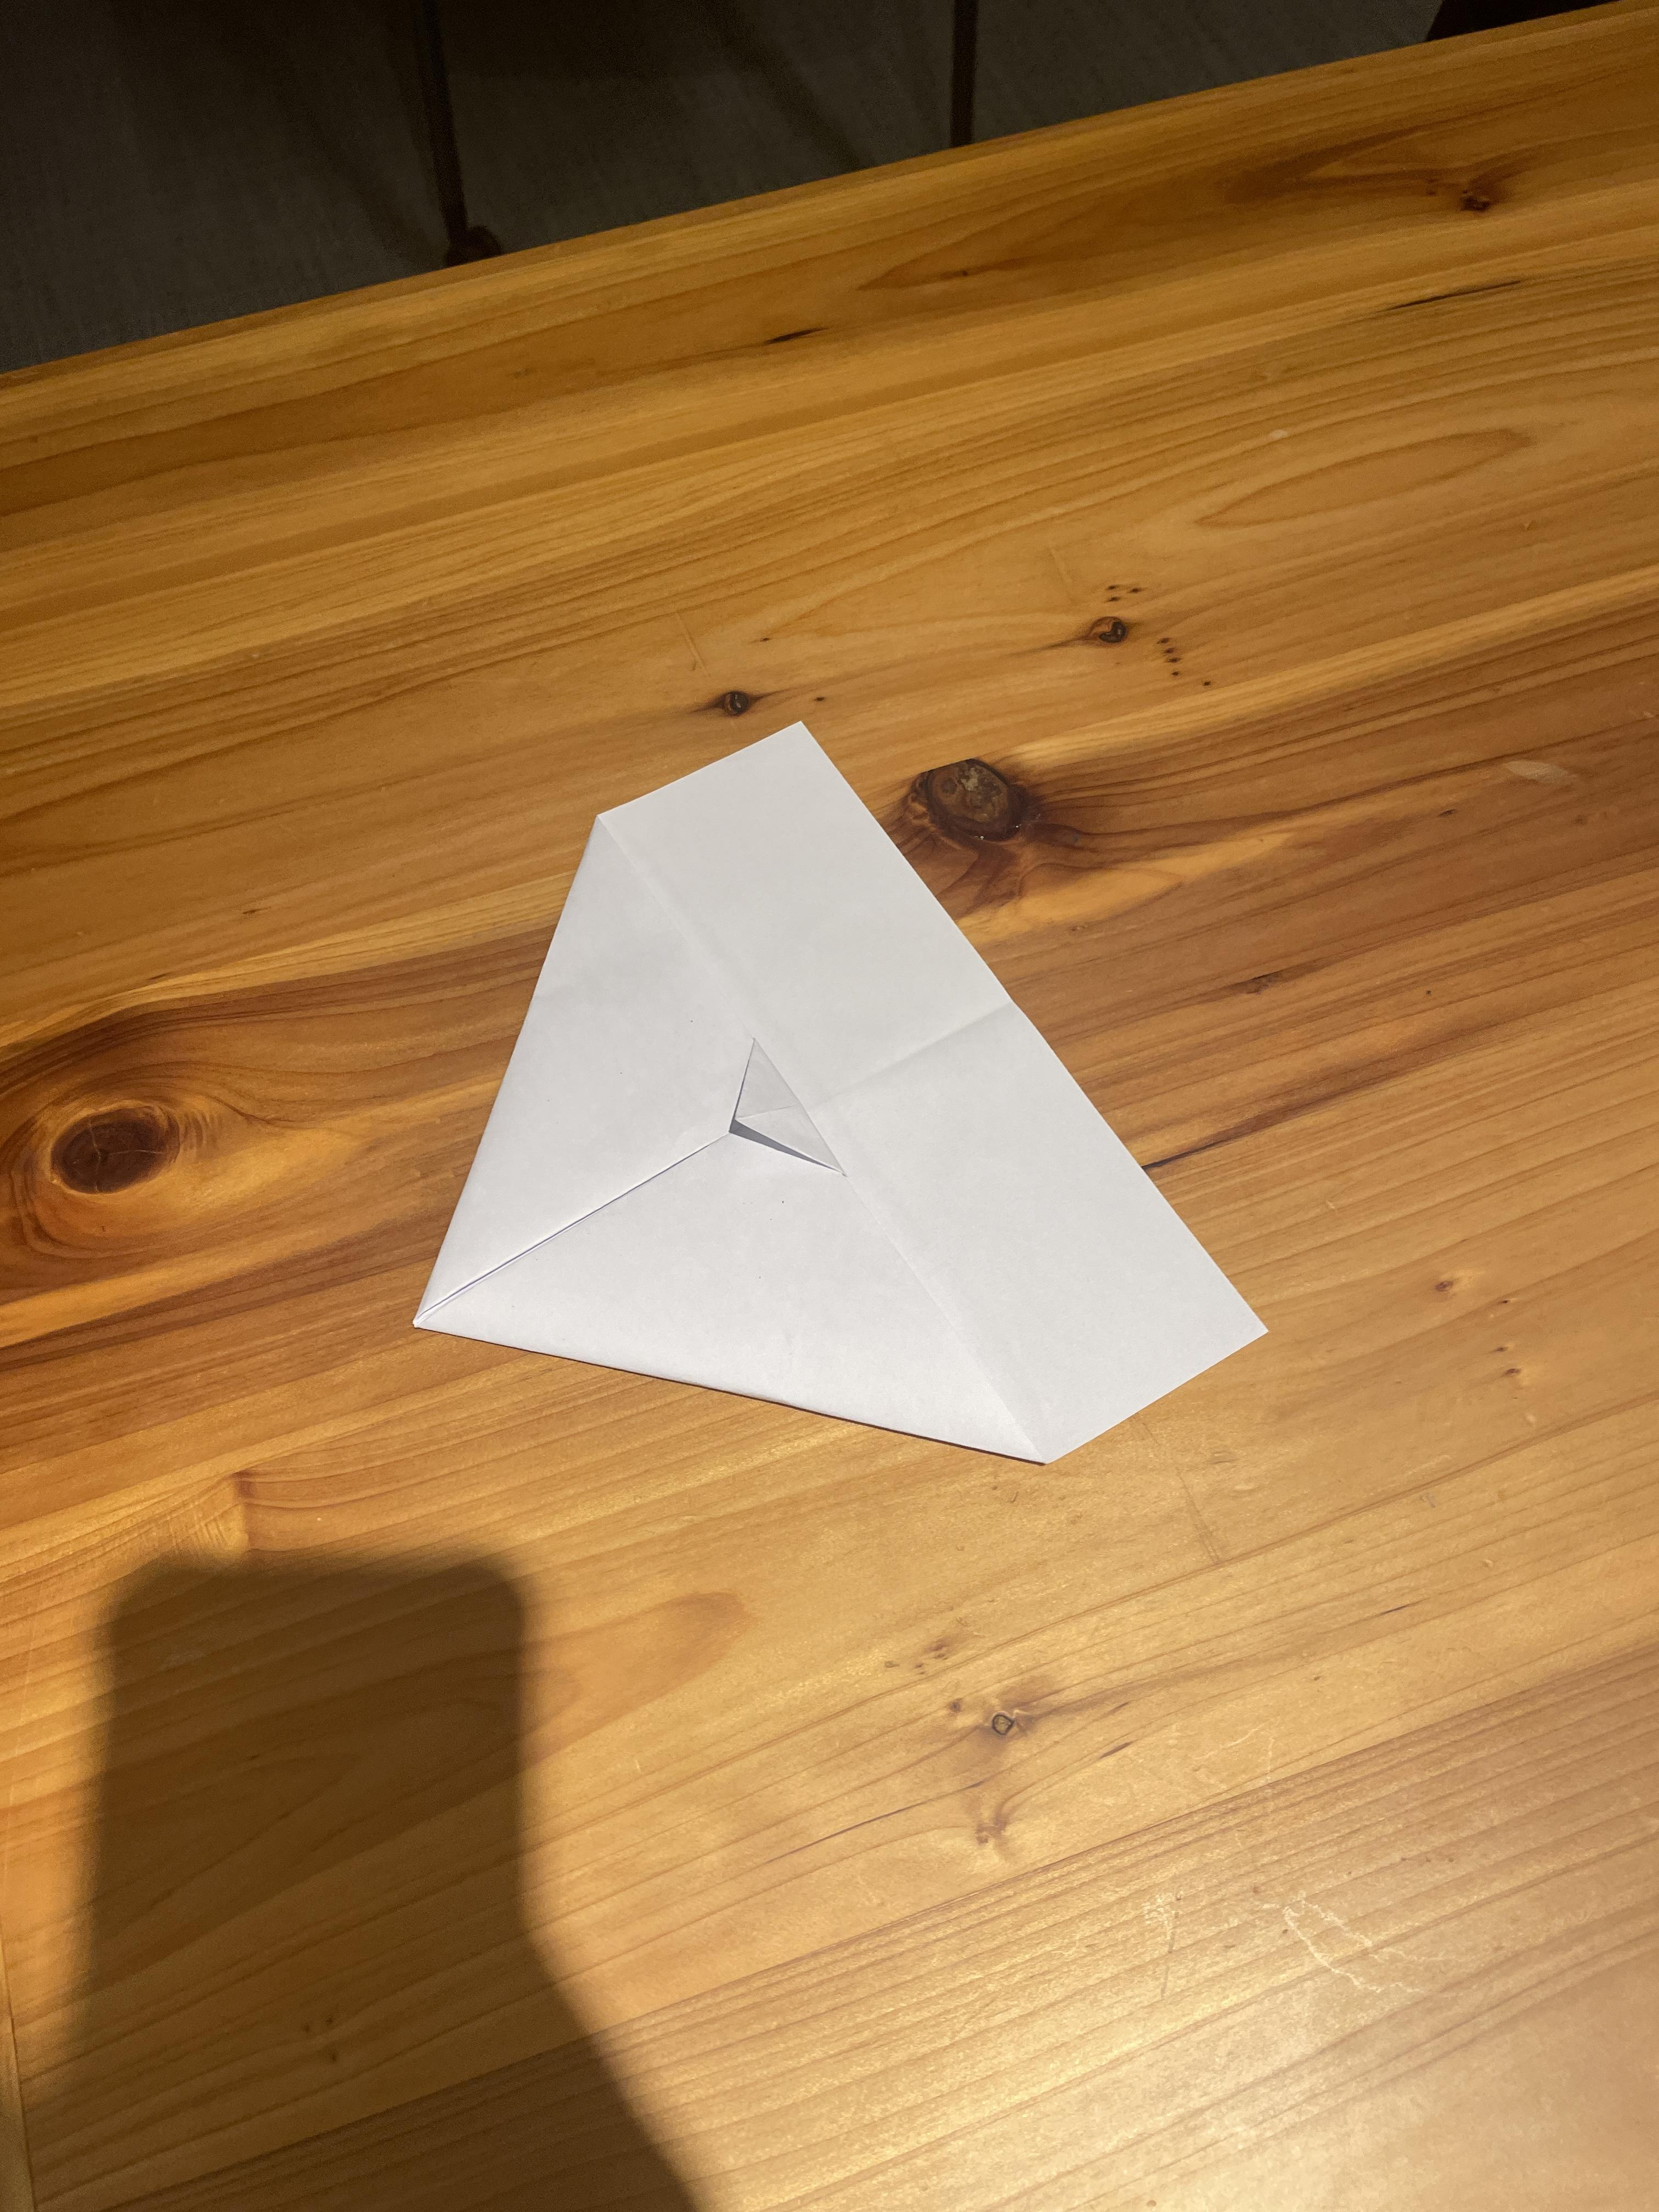shape_2: (368, 599, 1310, 1561)
